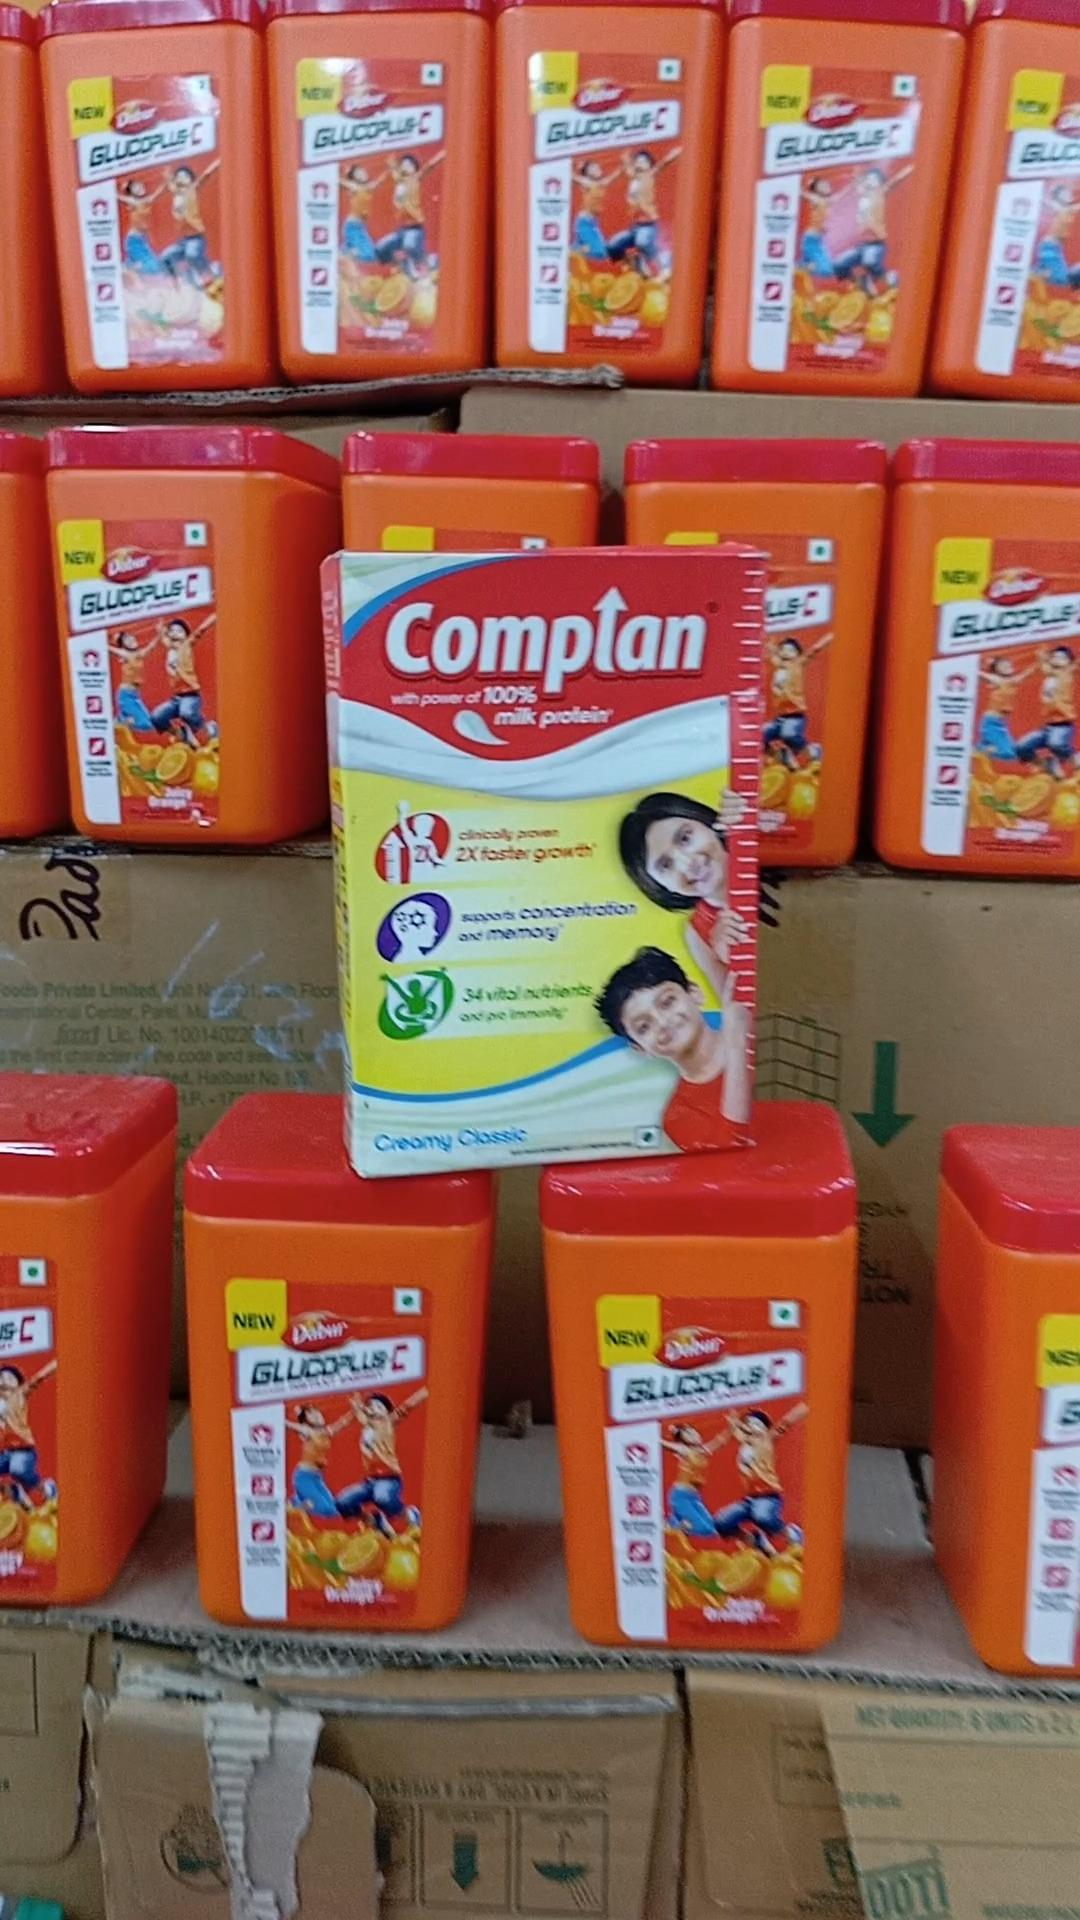COMPLAN_CREAMY_CLASSIC_500_G_PACK: (343, 543, 757, 1159)
